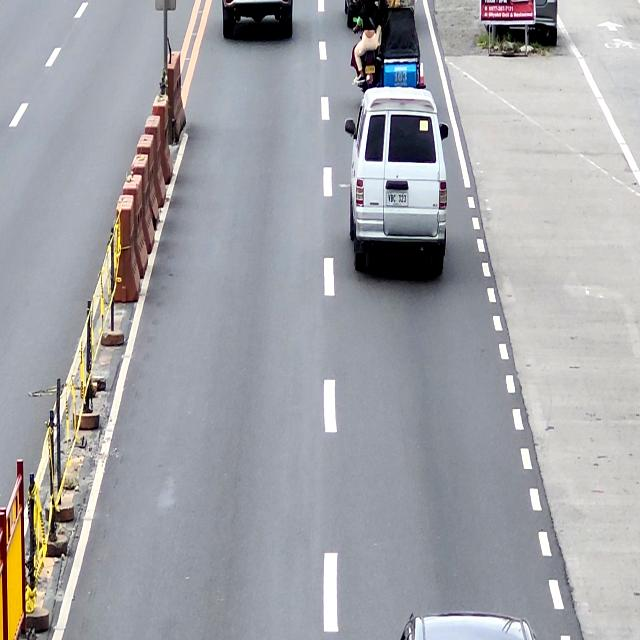Car: (344, 87, 448, 278)
License-Plate: (386, 191, 408, 207), (364, 64, 374, 75)
Tricycle: (353, 7, 424, 92)
